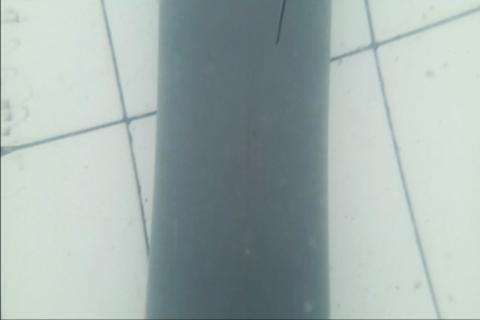keretakan: (271, 0, 287, 50)
